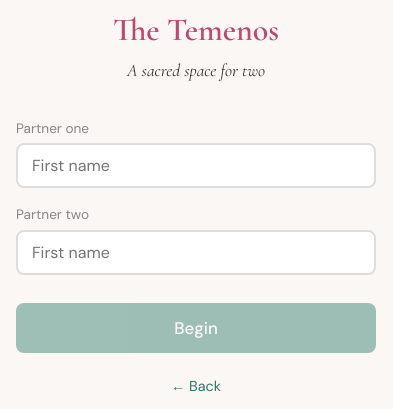
Test case: CouplesSetup › enables begin button when both names are filled
Type "Alice" into the field with placeholder "First name" below "Partner one" at x=196, y=166, box [16,143,376,188]
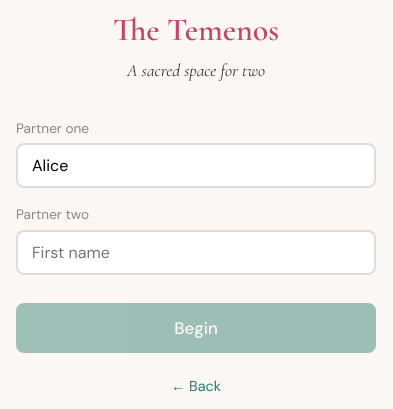
Type "Bob" into the field with placeholder "First name" at x=196, y=252, box [16,230,376,275]
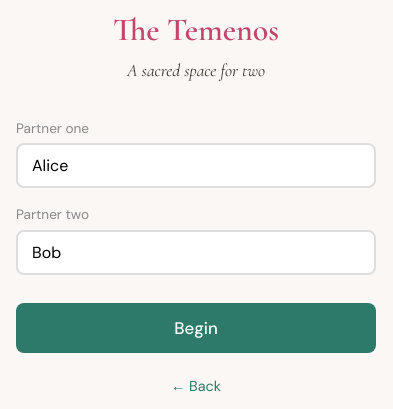
Expected: the button "Begin" is enabled, [16,303,376,353]
